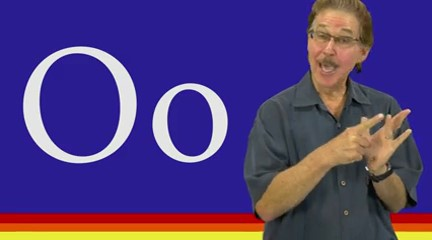O: (326, 108, 421, 171)
